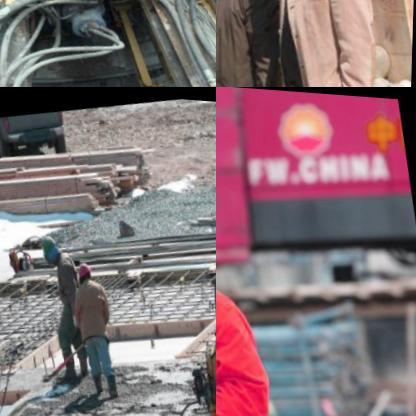helmet: (38, 232, 63, 266), (75, 257, 95, 283)
